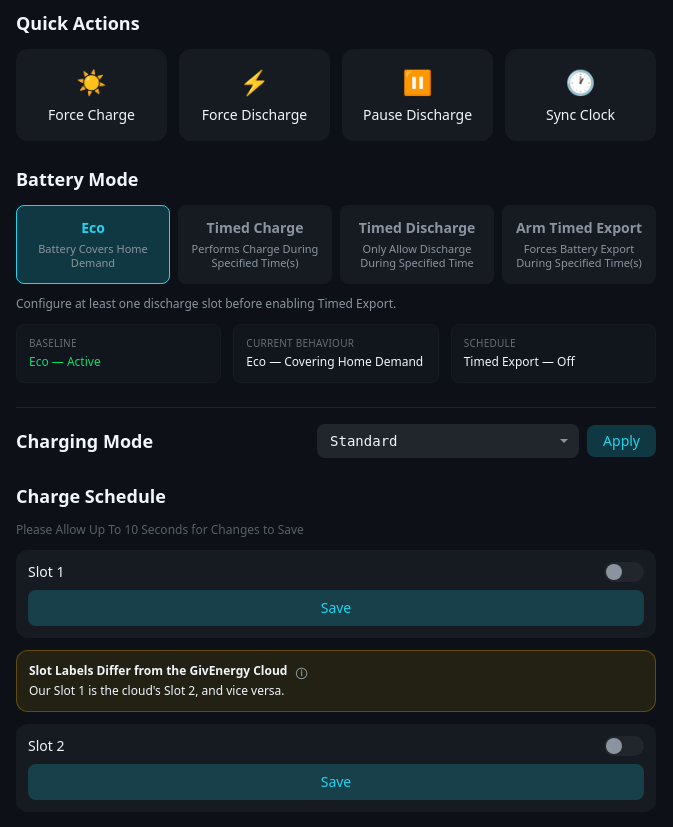
Test: <ControlPage/> — Agile postcode lookup › reports a postcode the service does not know
Select "Agile (Full)" in the dropdown at [448, 441], box x1=317 y1=424 x2=579 y2=458
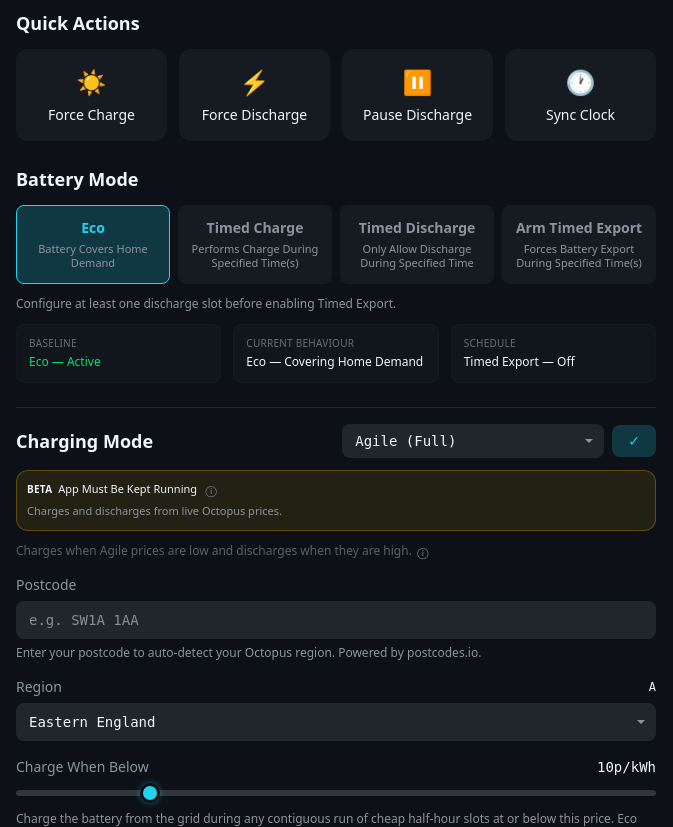
Type "SW1A 1AA" into the field with placeholder "e.g. SW1A 1AA".
click(336, 620); type("SW1A 1AA")  # box x1=16 y1=601 x2=656 y2=639
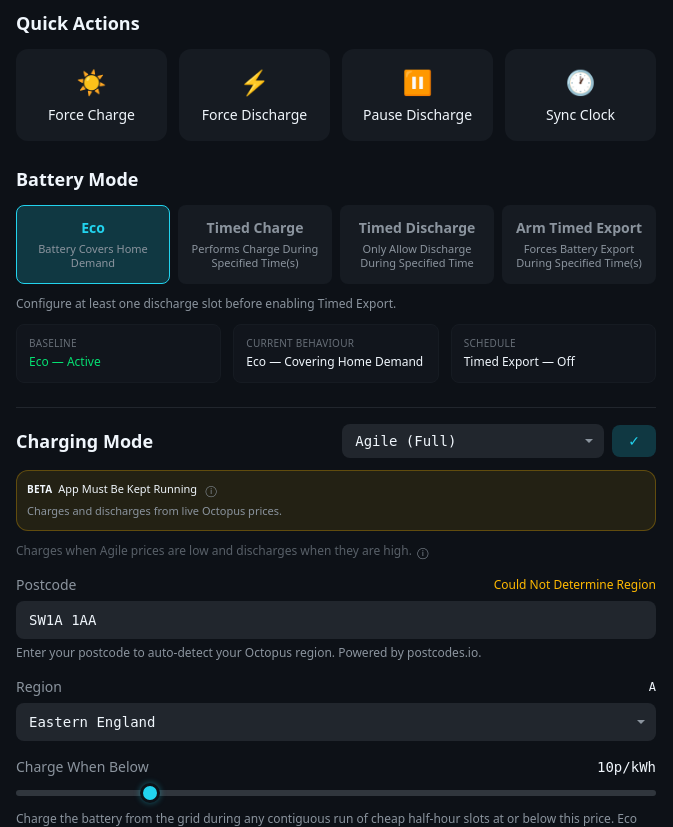
Expected: the text "Could Not Determine Region" is shown, x1=494 y1=577 x2=656 y2=593
